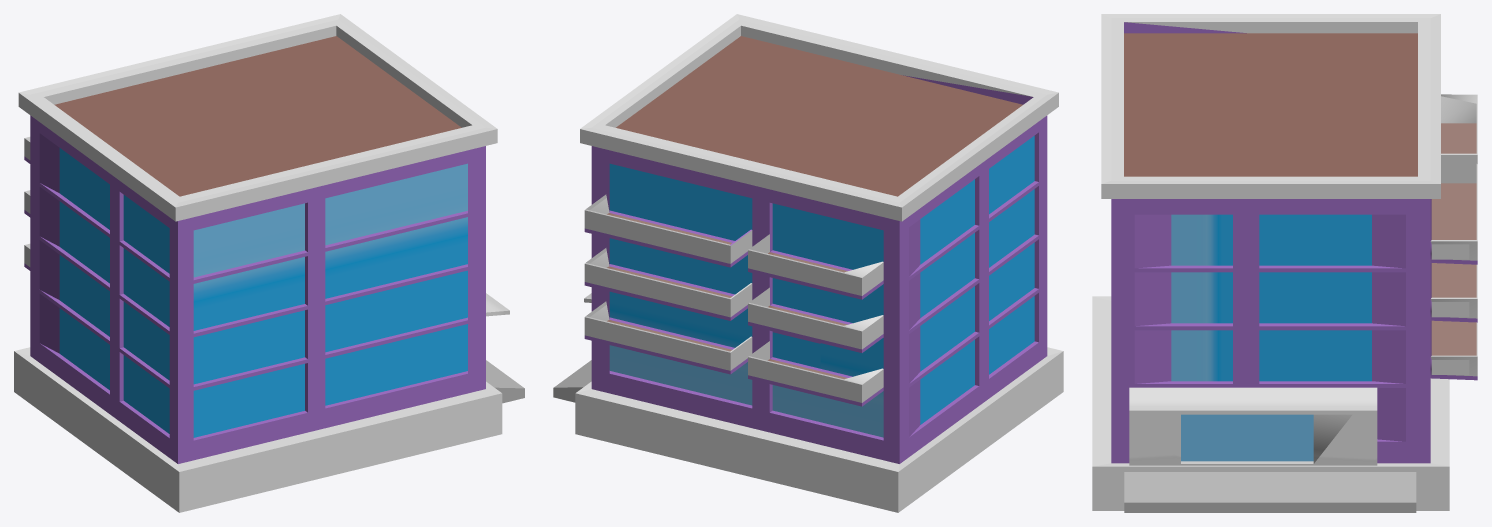
The model's file is PurpleBuilding4x5x5.fbx.
3 renders of one model, left to right at view 1: azimuth 30°, elevation 25°; view 2: azimuth 150°, elevation 25°; view 3: azimuth 270°, elevation 25°, orthographic. The views are drawn at different scales.
Parts seen in each view (by area): view 1: House; view 2: House; view 3: House.
Boxes of the visible parts, left/top/right/bottom form: House: left=14, top=14, right=524, bottom=512; House: left=553, top=14, right=1063, bottom=512; House: left=1092, top=14, right=1477, bottom=512.
Bounding box in the file's own units: 6.24 × 5 × 5.34.
1 material, 1 textured.
